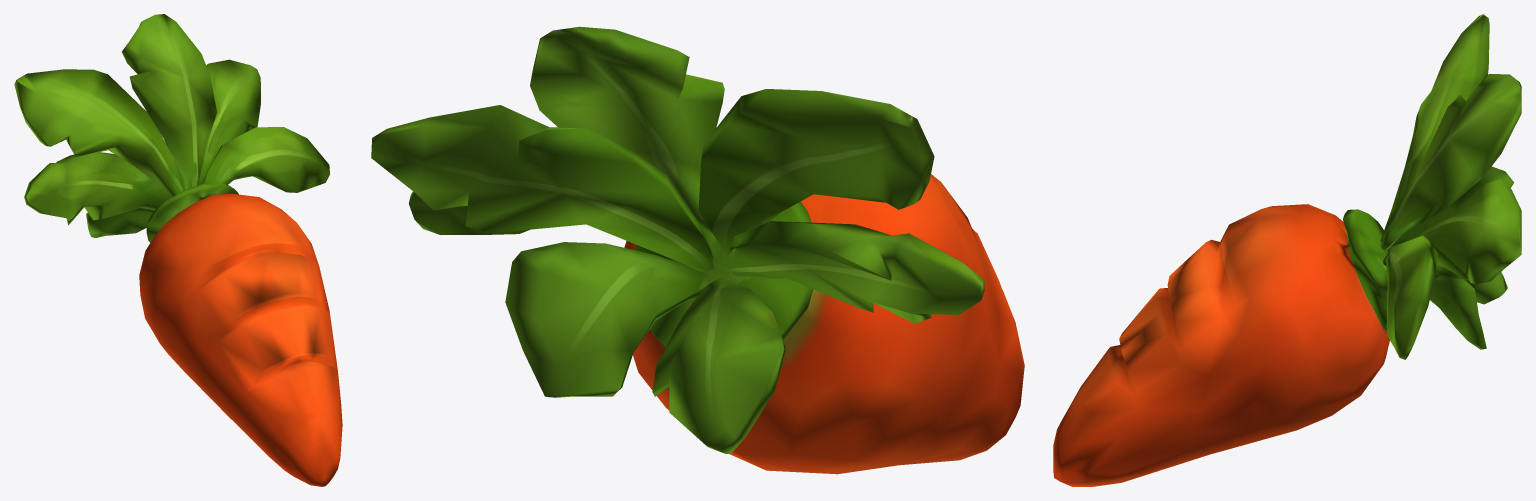
File: Carrot.fbx
3 views of the same model, side by side, from view 1: azimuth 30°, elevation 25°; view 2: azimuth 150°, elevation 25°; view 3: azimuth 270°, elevation 25° (orthographic). The views are drawn at different scales.
Parts seen in each view (by area): view 1: mesh_node; view 2: mesh_node; view 3: mesh_node.
Part boxes in pixels (x1,y1,x2,y2): mesh_node: [14, 14, 342, 486]; mesh_node: [371, 26, 1024, 474]; mesh_node: [1053, 14, 1521, 486].
Bounding box in the file's own units: 46.08 × 50 × 51.51.
1 material, 1 textured.
